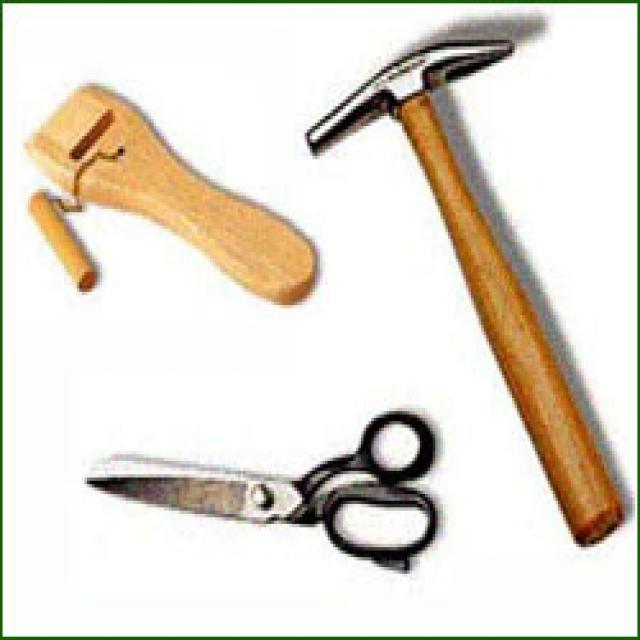hammer: (296, 24, 640, 550)
